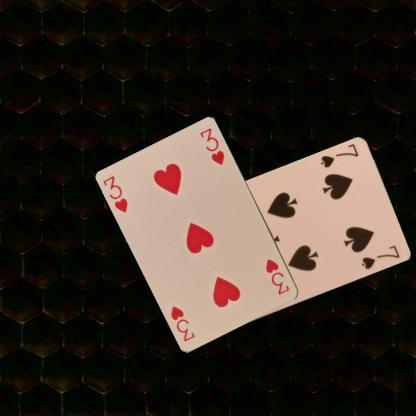3h: (100, 173, 129, 214), (263, 256, 291, 296)
7s: (317, 142, 360, 169)
